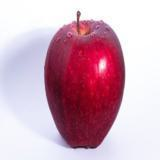apple: (44, 11, 125, 149)
